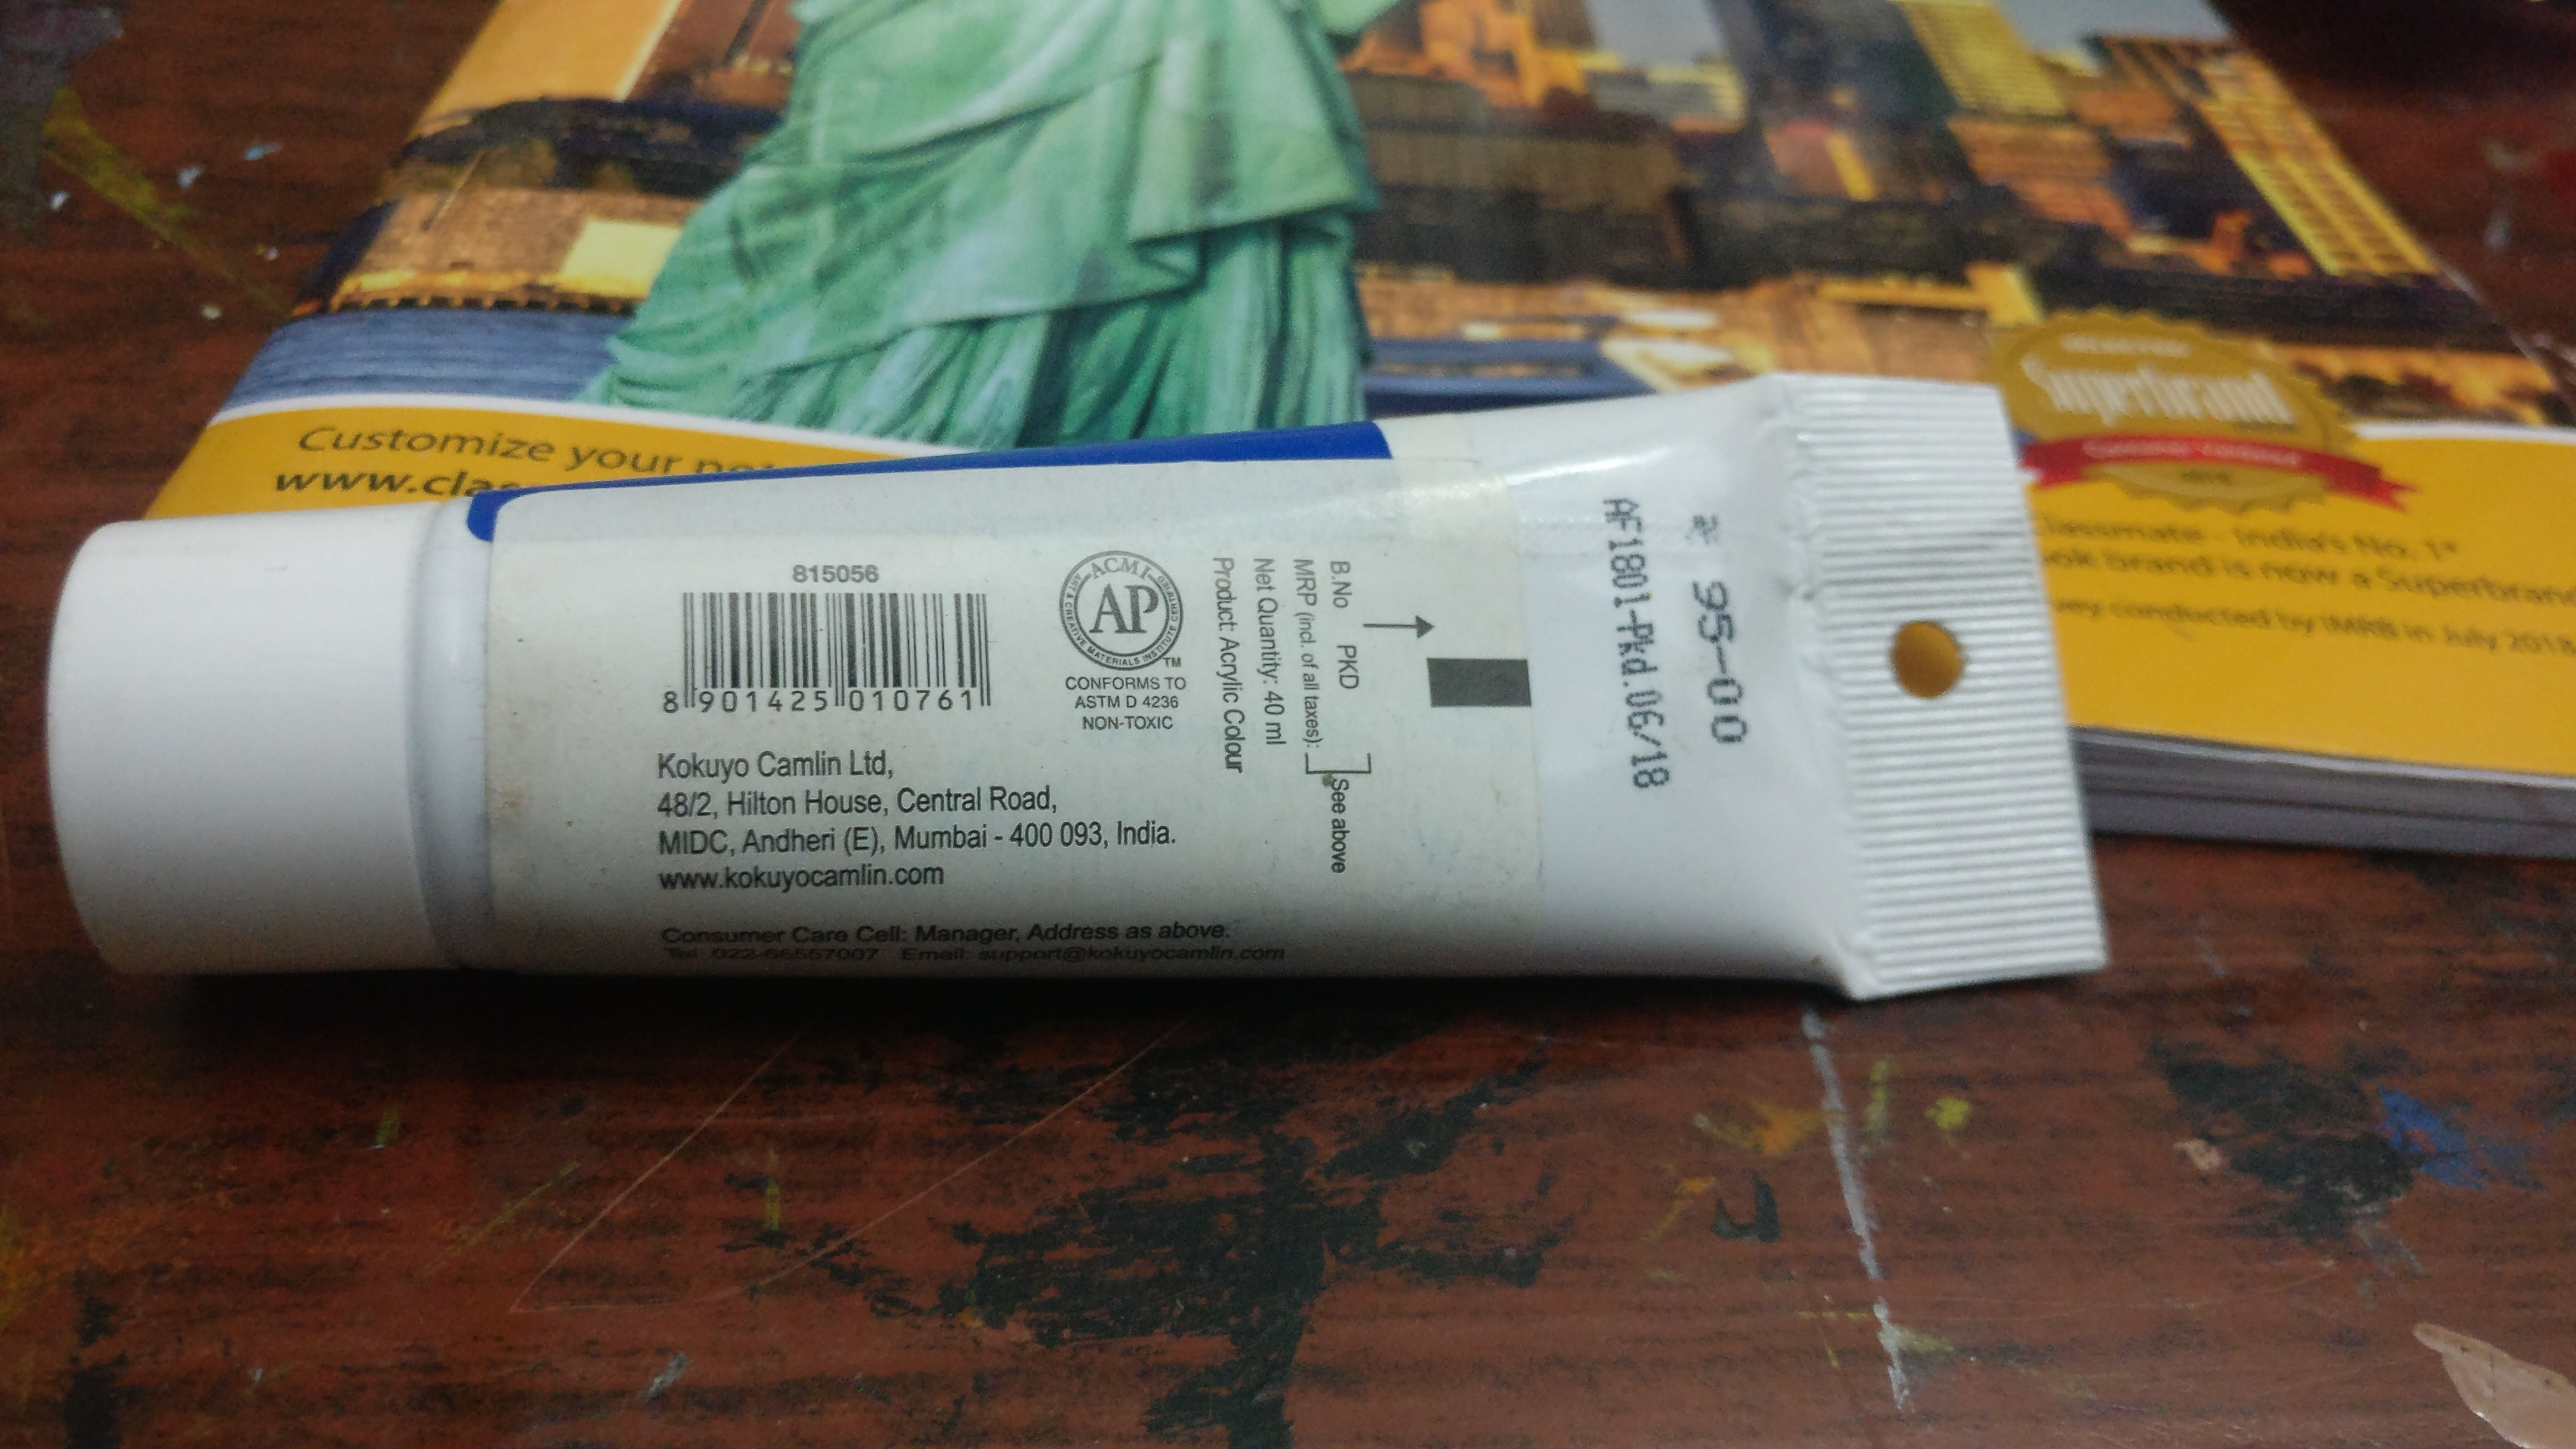barcode: (648, 554, 1008, 724)
